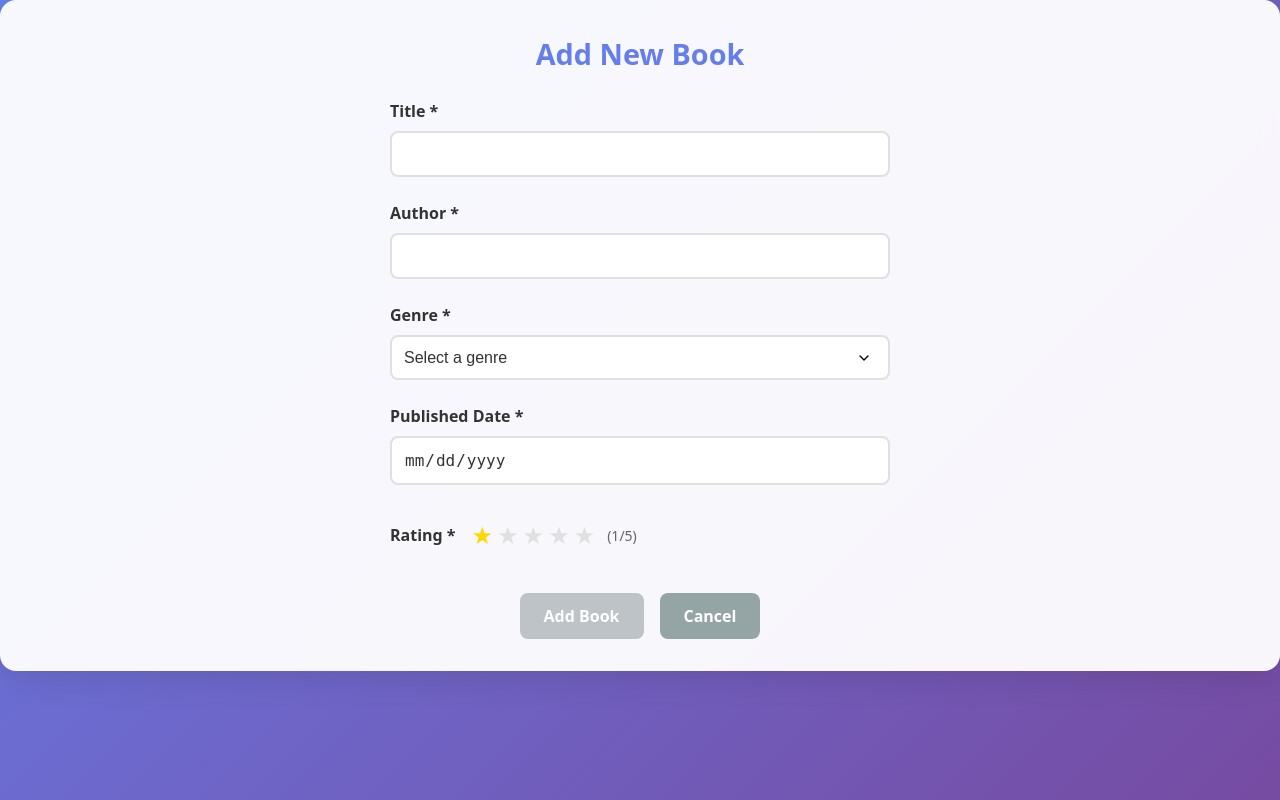
Test: BookForm › validates title length
Step 1. Type "A" into the field labelled "Title *" → (640, 154), box [390, 131, 890, 177]
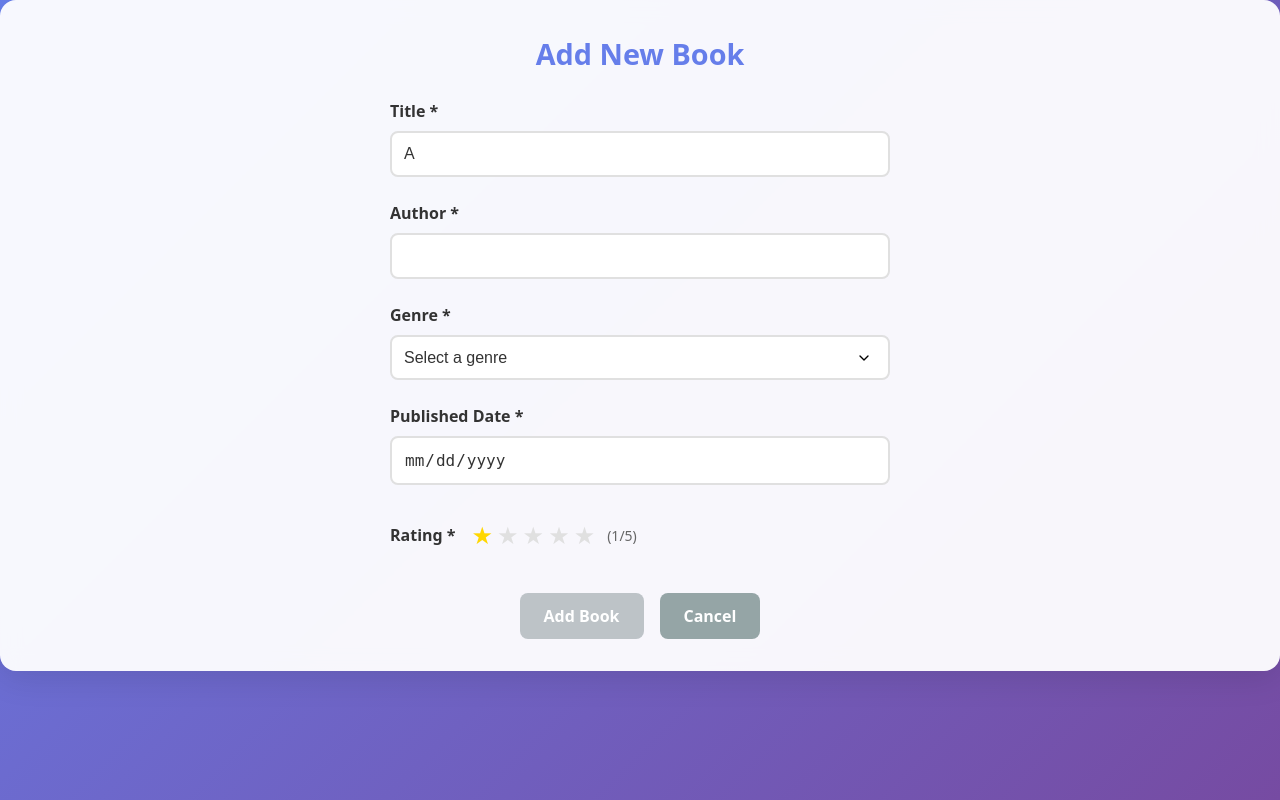
Step 2. Leave the field labelled "Title *", box [390, 131, 890, 177]
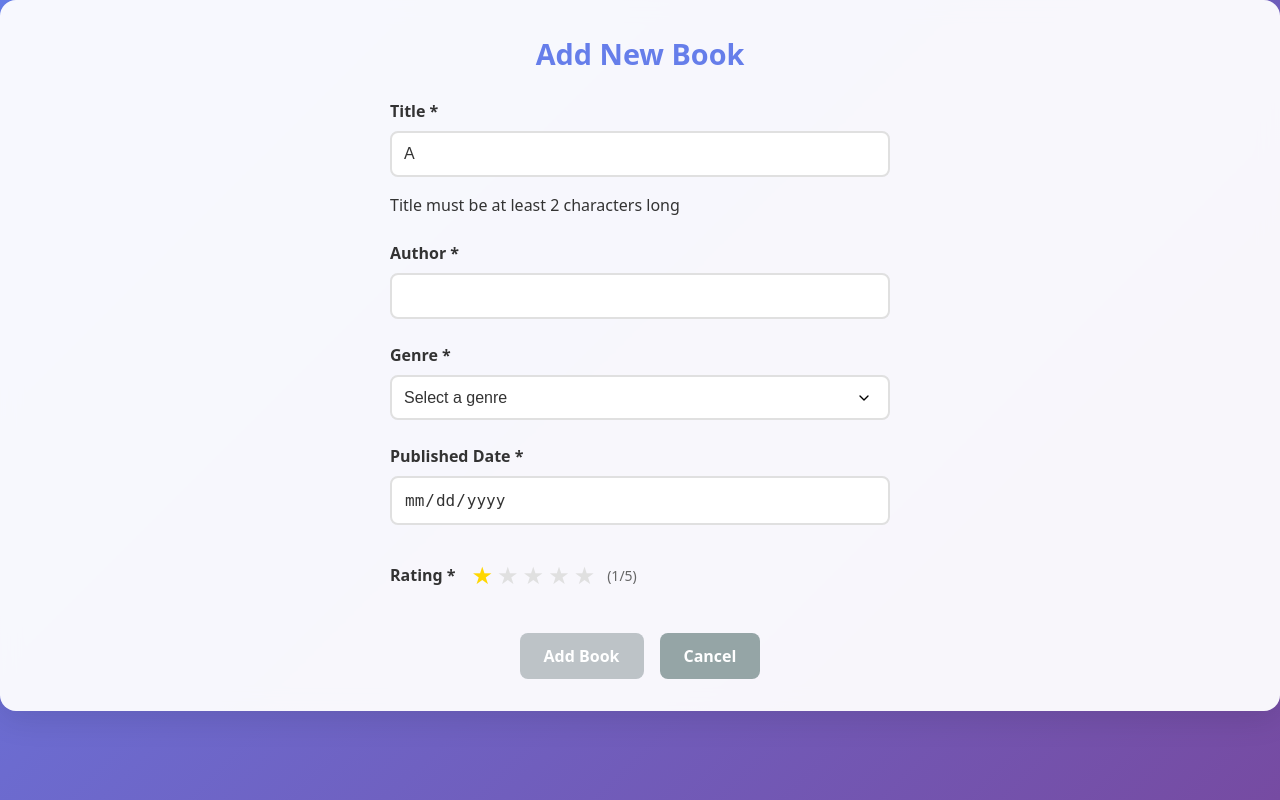
Check: the text "Title must be at least 2 characters long" is shown, box [390, 194, 680, 216]
